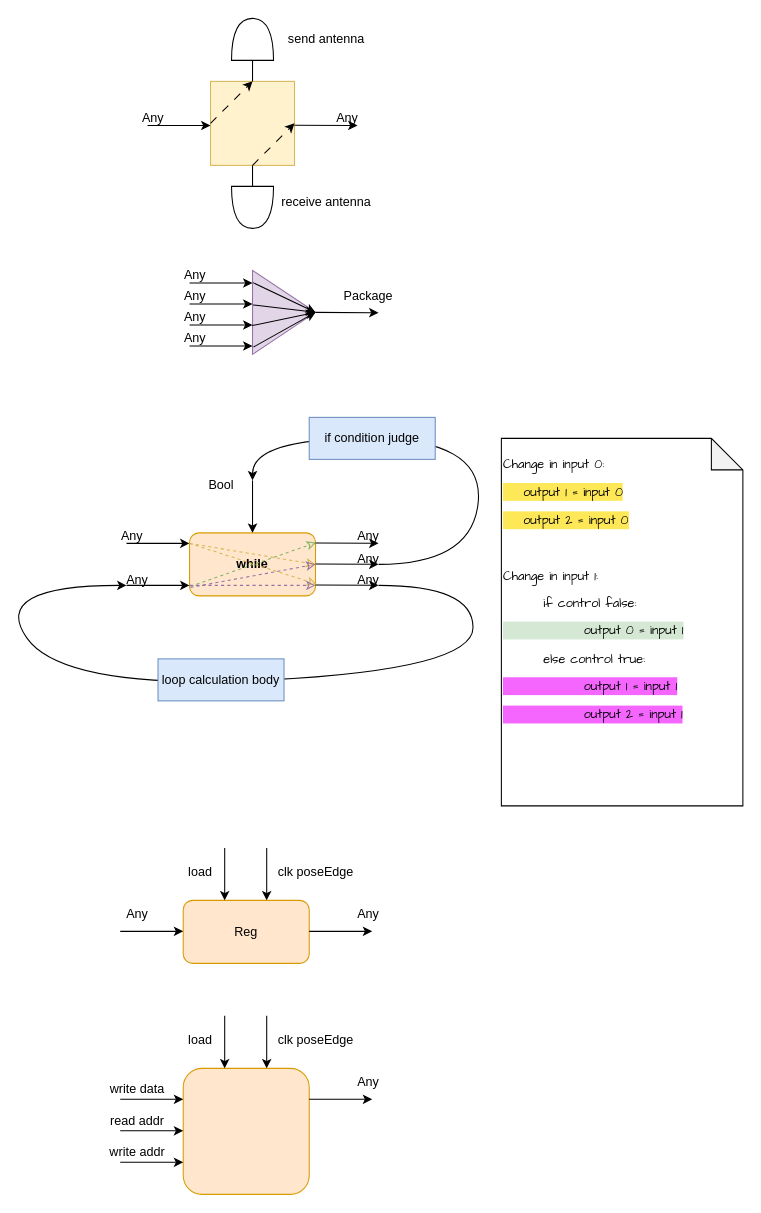
Some shapes in this 761 by 1213 pixel diagram are drawn without their labels. The centre of each missing label's shape, as x and y in pixels:
"Memory" belongs at (x=245, y=1130).
"RF" belongs at (x=252, y=122).
